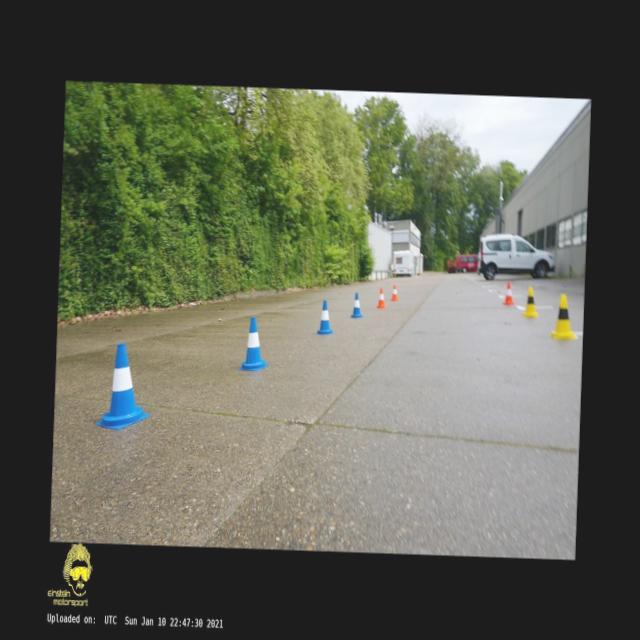blue_cone: (95, 342, 152, 429), (237, 316, 270, 370), (316, 299, 334, 334), (350, 292, 363, 318)
orange_cone: (502, 282, 514, 305), (376, 288, 386, 308), (389, 283, 398, 301)
yellow_cone: (548, 292, 578, 339), (522, 286, 540, 318)
